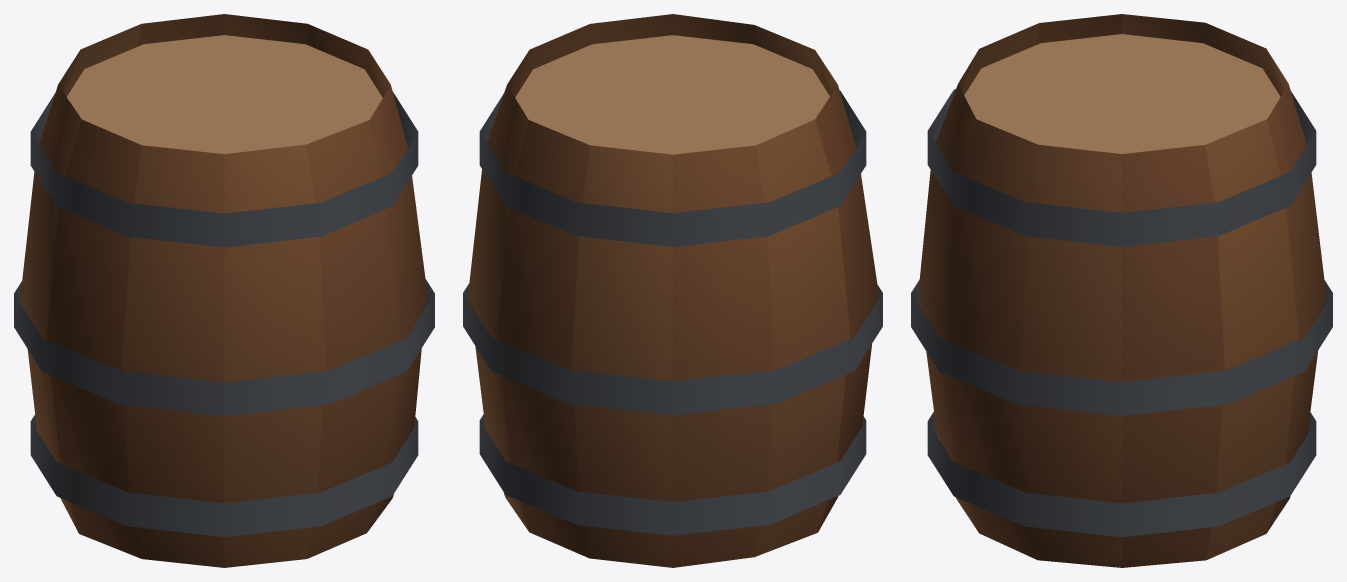
File: muster_barrel.glb
3 views of the same model, side by side, from view 1: azimuth 30°, elevation 25°; view 2: azimuth 150°, elevation 25°; view 3: azimuth 270°, elevation 25° (orthographic).
Parts seen in each view (by area): view 1: MusterBarrelBody; view 2: MusterBarrelBody; view 3: MusterBarrelBody.
Part boxes in pixels (box(x1,y1,x2,y2)): MusterBarrelBody: box(14, 14, 434, 567); MusterBarrelBody: box(463, 14, 882, 567); MusterBarrelBody: box(911, 14, 1332, 567).
Size of the model in its own units: 1.01 by 1.1 by 1.01.
